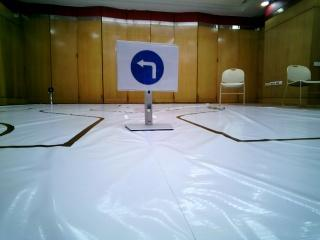left: (124, 47, 174, 88)
